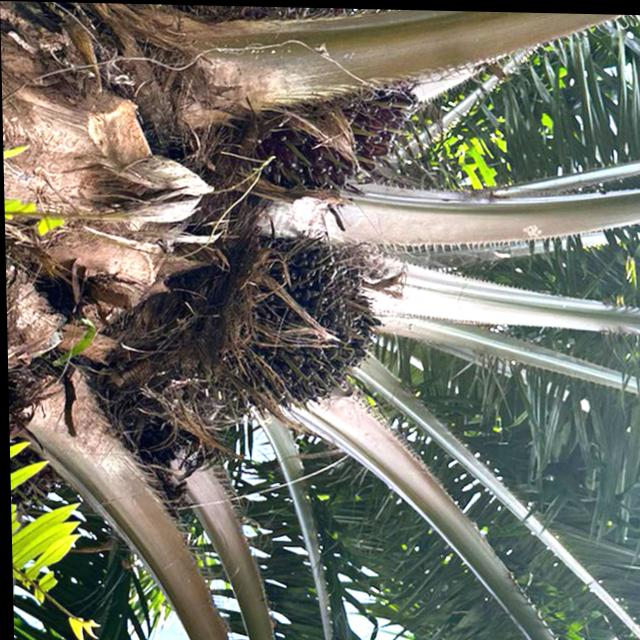unripe: (213, 227, 393, 416), (226, 51, 432, 204)
